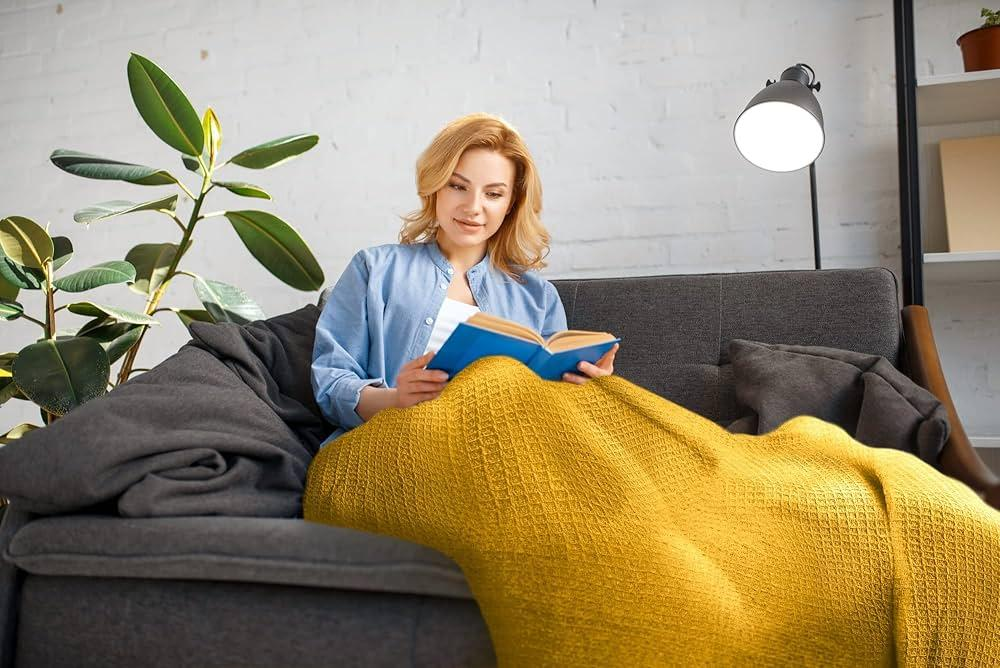blanket: (301, 356, 1000, 668)
long sleeve shirt: (309, 236, 578, 454)
